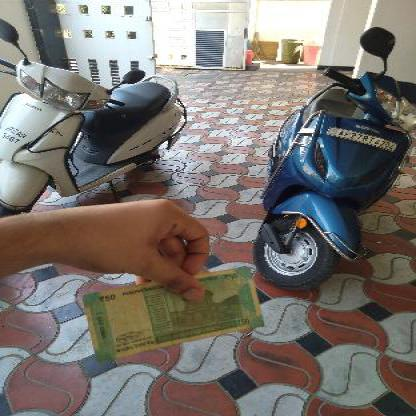New50Back: (82, 264, 258, 350)
